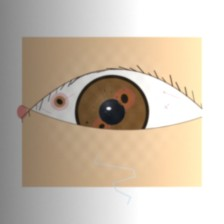foreign_body_visible: (101, 80, 148, 118)
